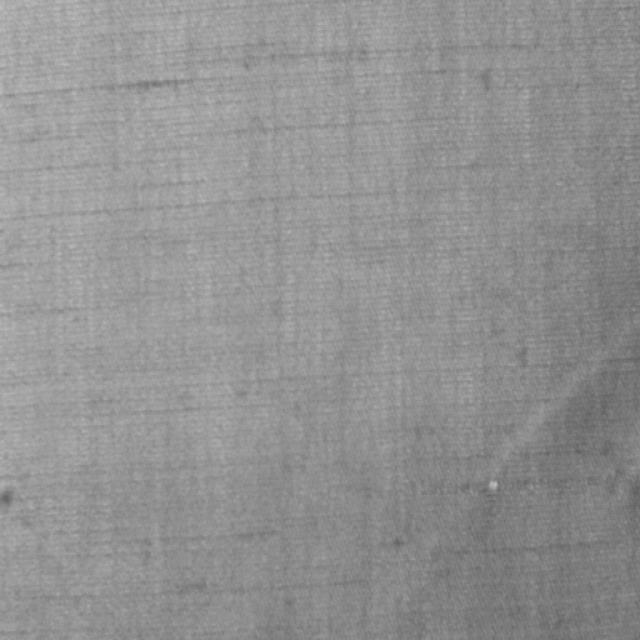hole: (486, 476, 499, 496)
